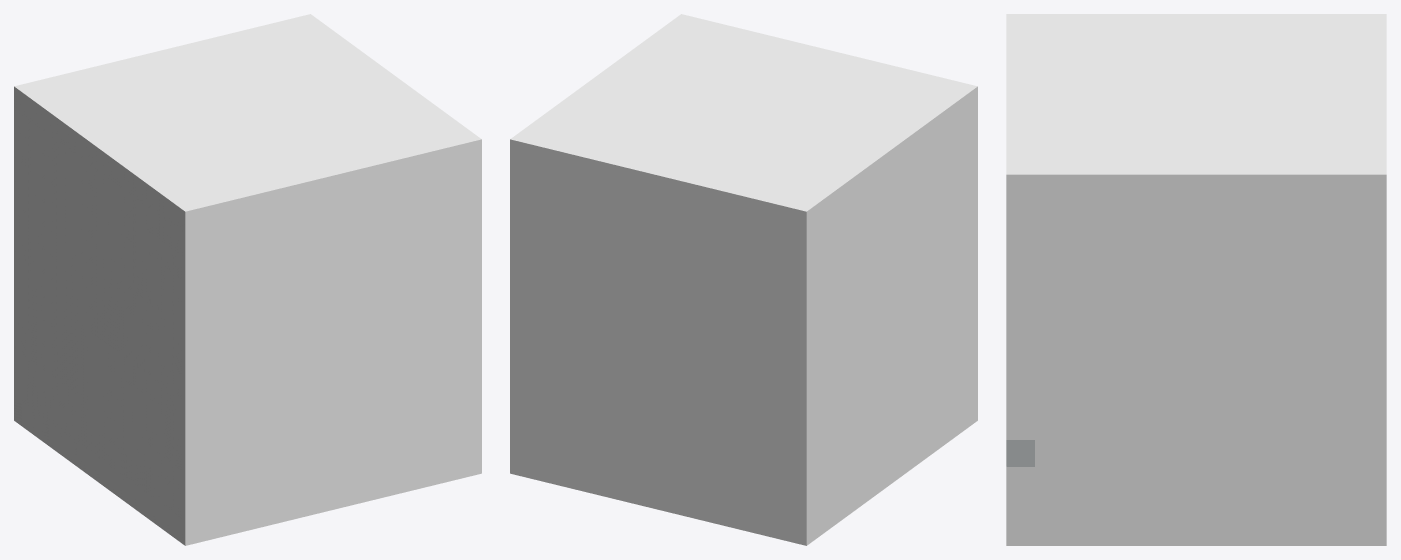
File: rbshockre.obj
3 views of the same model, side by side, from view 1: azimuth 30°, elevation 25°; view 2: azimuth 150°, elevation 25°; view 3: azimuth 270°, elevation 25° (orthographic). The views are drawn at different scales.
Visible parts, largest first — view 1: cube, yellow_concrete, red_concrete, lime_concrete, light_blue_concrete, magenta_concrete; view 2: cube, yellow_concrete, lime_concrete, red_concrete, light_blue_concrete, magenta_concrete; view 3: cube, yellow_concrete, red_concrete, light_blue_concrete, magenta_concrete, lime_concrete.
Boxes of the visible parts, box(x1,y1,x2,y2) form: cube: box(14, 14, 481, 545); yellow_concrete: box(14, 78, 367, 497); red_concrete: box(223, 44, 458, 447); lime_concrete: box(27, 153, 171, 478); light_blue_concrete: box(40, 249, 158, 449); magenta_concrete: box(66, 388, 119, 473); cube: box(510, 14, 977, 545); yellow_concrete: box(624, 61, 977, 497); lime_concrete: box(820, 130, 964, 487); red_concrete: box(533, 44, 745, 447); light_blue_concrete: box(833, 249, 951, 478); magenta_concrete: box(859, 421, 911, 459); cube: box(1006, 14, 1386, 545); yellow_concrete: box(1065, 14, 1327, 360); red_concrete: box(1065, 113, 1327, 360); light_blue_concrete: box(1240, 280, 1298, 360); magenta_concrete: box(1299, 254, 1327, 360); lime_concrete: box(1211, 334, 1240, 360).
Bounding box in the file's own units: 0.8125 × 0.875 × 0.8125.
